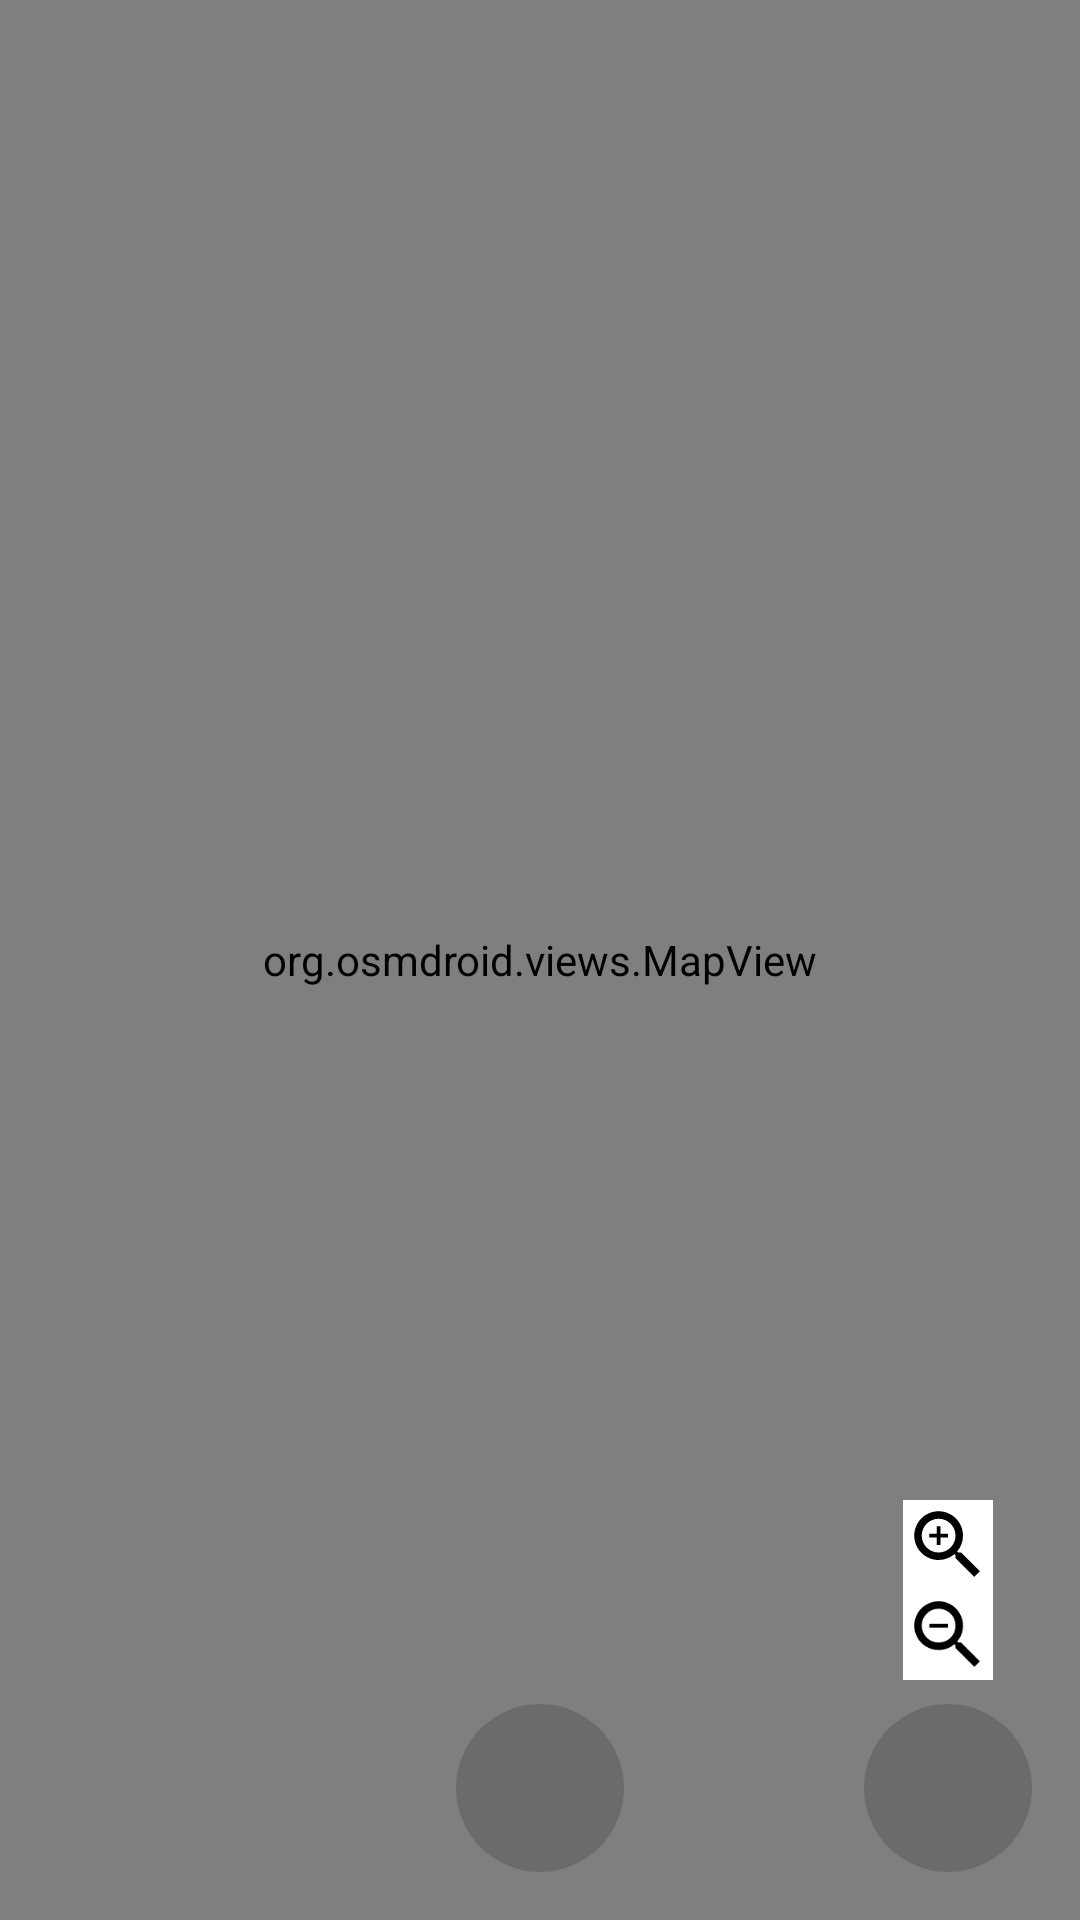

Icons on this 1080*1920 Android screen, each with the point to tap as point (x, y):
zoom in: point (948, 1545)
zoom out: point (948, 1635)
